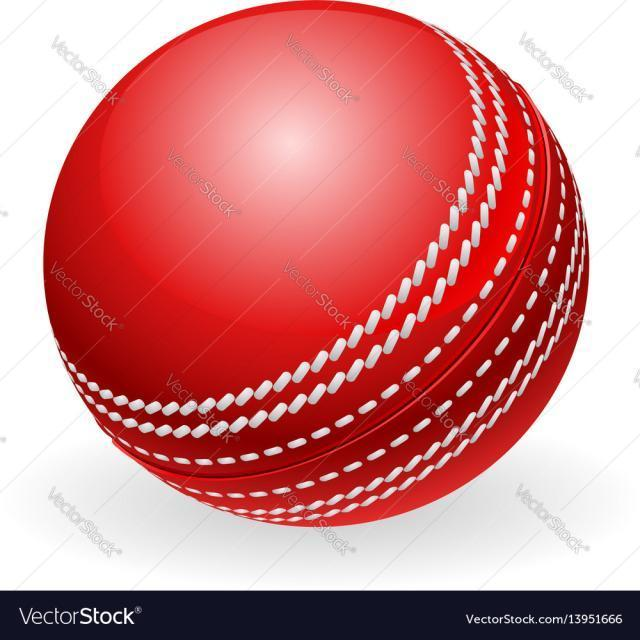cricket ball: (42, 0, 589, 528)
